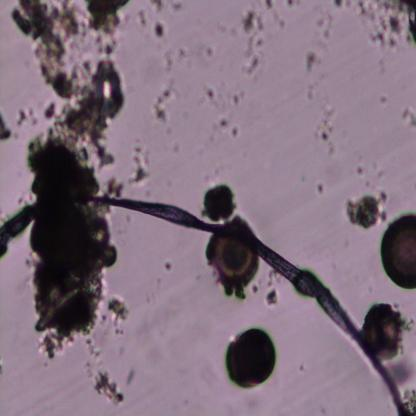Background material: (24, 132, 119, 352), (32, 57, 128, 169), (8, 0, 86, 59), (349, 0, 416, 54), (77, 334, 125, 407), (81, 0, 135, 54), (344, 188, 390, 230), (240, 3, 264, 79), (125, 139, 153, 189), (206, 187, 238, 223), (313, 107, 339, 147), (152, 84, 176, 119), (162, 45, 187, 72), (109, 297, 129, 328), (0, 111, 17, 145), (314, 10, 332, 40), (401, 381, 416, 416), (390, 360, 416, 380), (102, 177, 124, 200), (214, 109, 231, 131), (305, 79, 322, 100), (264, 288, 280, 310), (313, 176, 328, 199), (305, 49, 320, 72), (19, 106, 38, 124), (402, 105, 416, 128), (230, 89, 247, 107), (124, 367, 138, 388), (138, 11, 149, 33), (156, 20, 168, 40), (146, 0, 164, 13), (275, 12, 287, 30), (168, 139, 182, 154), (354, 161, 366, 178), (333, 0, 348, 13), (378, 91, 389, 106), (169, 0, 184, 11), (203, 45, 214, 59), (205, 85, 215, 100), (263, 0, 275, 11), (164, 260, 174, 273), (232, 125, 239, 138), (285, 0, 295, 8), (299, 362, 305, 374)
Cotton: (0, 194, 402, 416)
Diatom: (227, 327, 279, 394), (209, 228, 260, 292), (381, 212, 416, 289), (364, 302, 405, 360)
